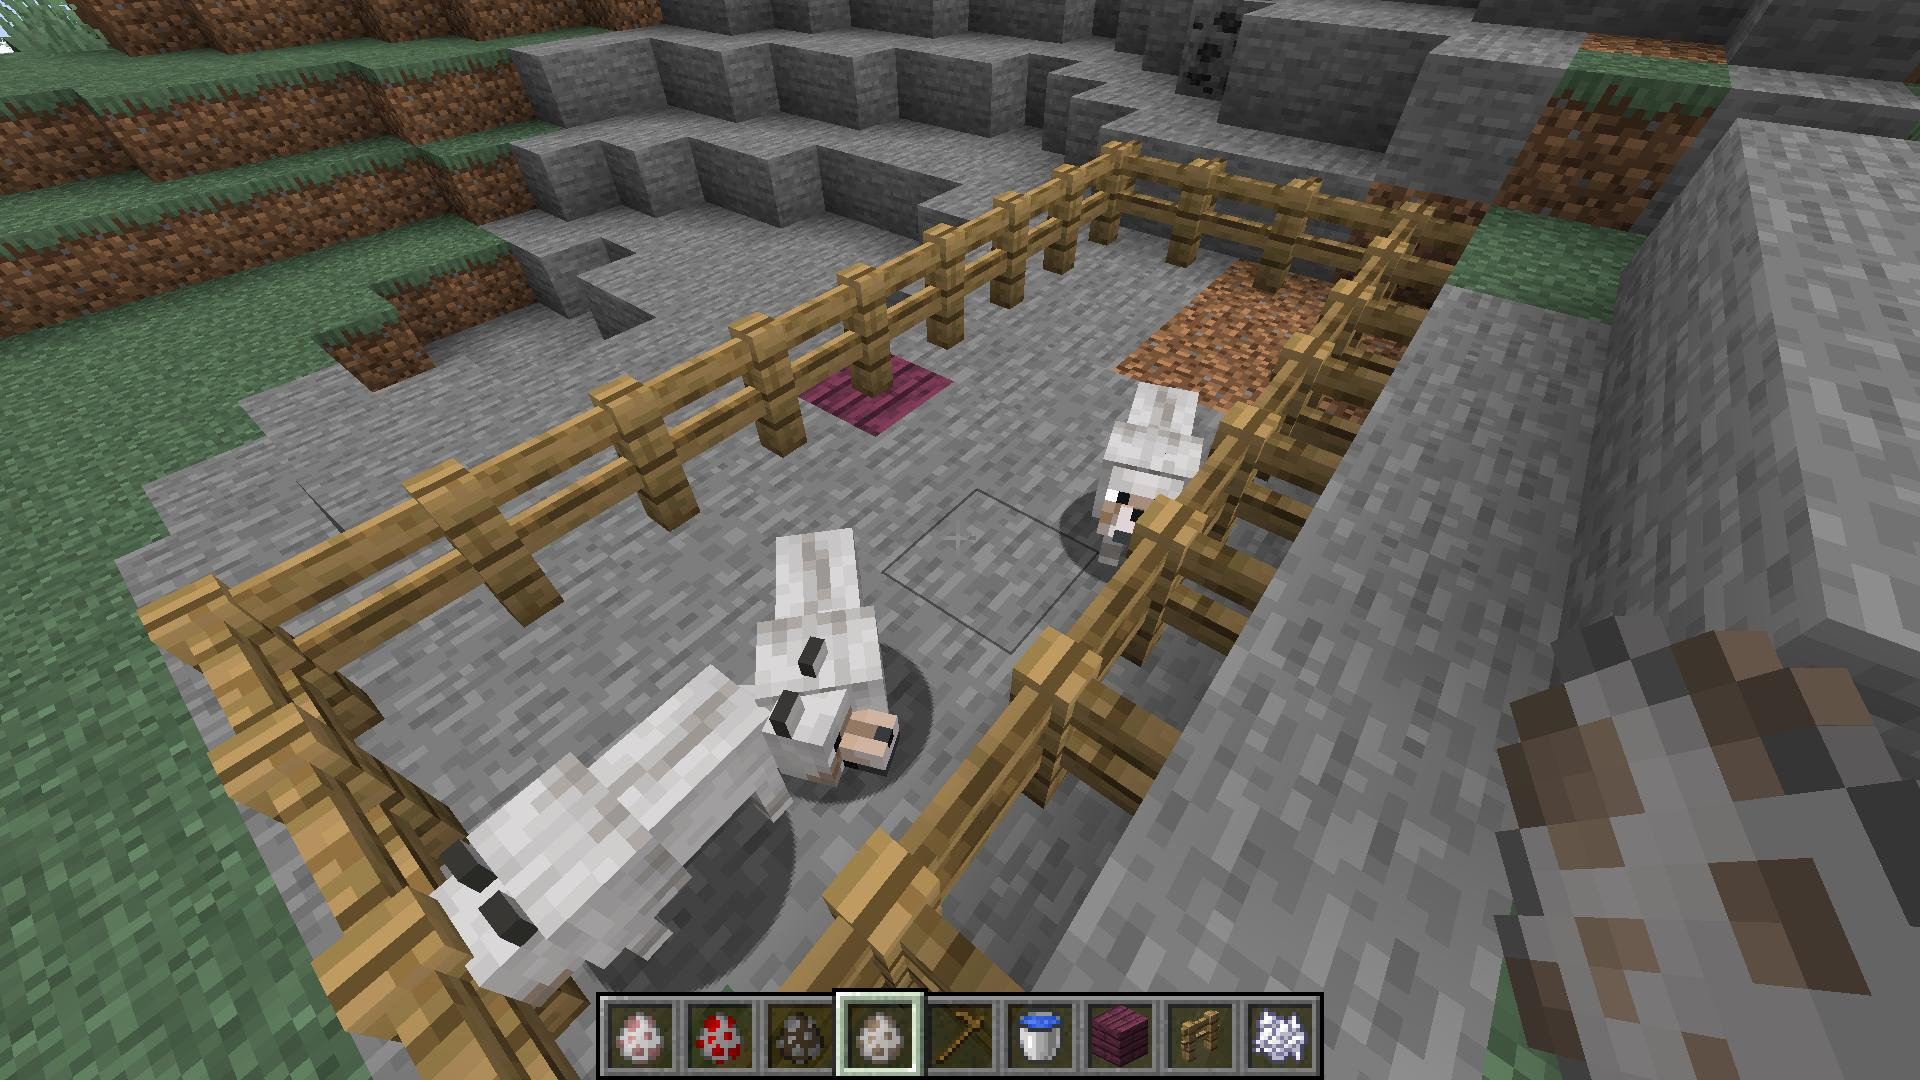wolf: (446, 622, 777, 986), (733, 514, 897, 796), (1076, 364, 1220, 559)
